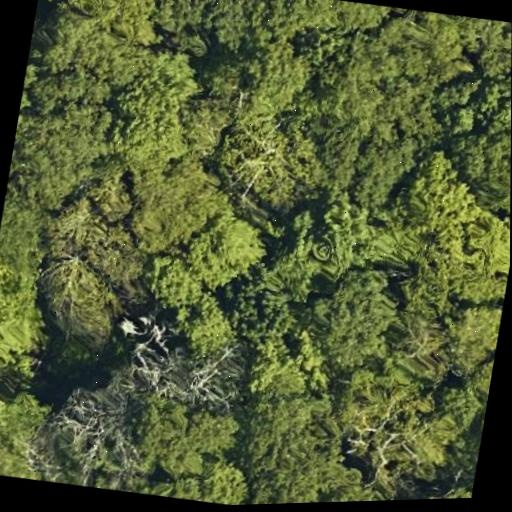tree-top: (324, 361, 465, 492), (326, 15, 461, 151), (139, 185, 274, 306), (235, 370, 352, 505), (117, 160, 242, 280), (212, 100, 337, 213), (104, 51, 208, 174), (7, 89, 110, 211), (262, 187, 366, 305), (129, 391, 247, 488), (33, 247, 137, 350), (306, 261, 401, 373), (49, 389, 146, 494), (40, 0, 161, 80), (422, 173, 511, 279), (391, 148, 485, 244), (118, 325, 216, 411), (0, 228, 53, 381), (452, 73, 511, 209), (152, 0, 260, 74), (53, 169, 130, 266), (231, 34, 309, 127), (265, 0, 406, 48), (165, 286, 246, 365), (446, 203, 510, 300), (0, 371, 56, 474), (436, 290, 504, 374), (441, 12, 512, 81), (225, 283, 297, 349), (0, 410, 51, 481), (51, 0, 153, 33), (316, 475, 431, 503), (410, 471, 473, 500)
